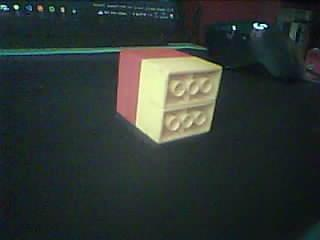lego: (116, 48, 222, 144)
